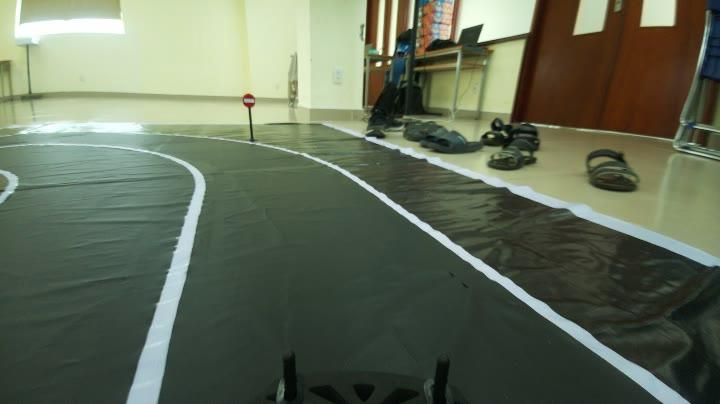no_entry: (240, 89, 258, 109)
